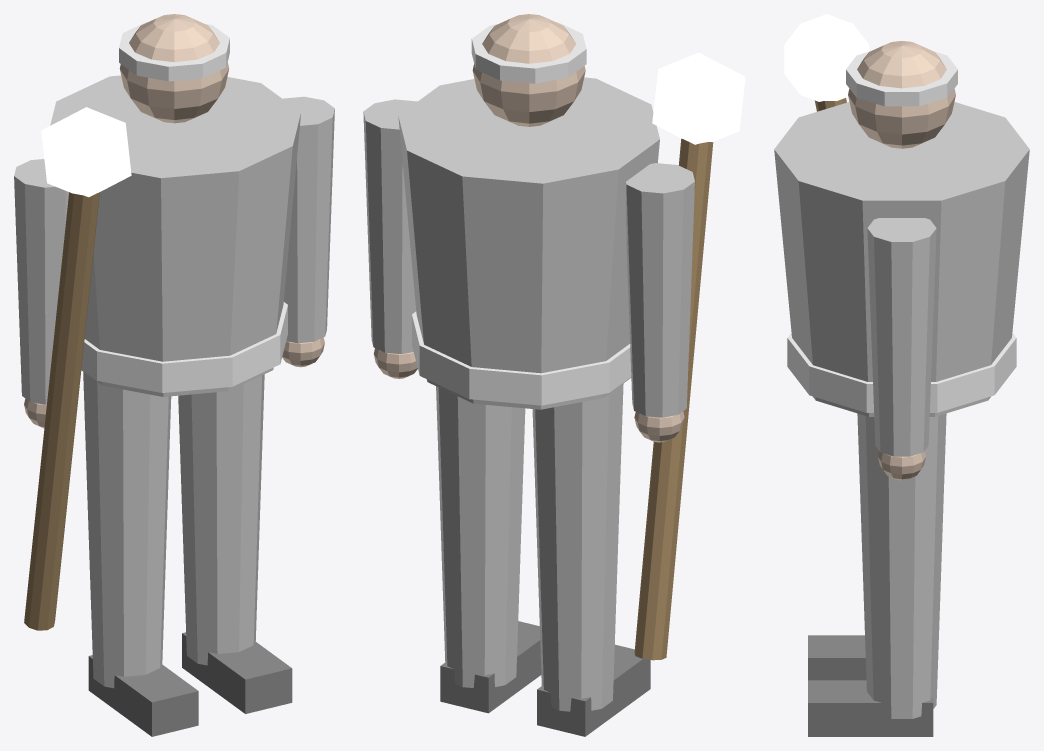
3 views of the same model, side by side, from view 1: azimuth 30°, elevation 25°; view 2: azimuth 150°, elevation 25°; view 3: azimuth 270°, elevation 25° (orthographic). The views are drawn at different scales.
Parts seen in each view (by area): view 1: torso, thighR, thighL, staff, armL, armR, head, belt, orb, footL, footR, band (+1 smaller); view 2: torso, thighR, thighL, armR, staff, armL, head, belt, orb, footR, footL, band (+2 smaller); view 3: torso, thighL, armL, head, belt, orb, footL, band, footR, handL.
Part boxes in pixels (x1,y1,x2,y2): torso: (50,75,300,396); thighR: (83,372,171,688); thighL: (178,374,264,665); staff: (24,192,99,630); armL: (283,96,334,343); armR: (14,159,68,404); head: (119,14,229,123); belt: (81,302,287,392); orb: (41,107,131,197); footL: (182,632,292,713); footR: (88,655,198,736); band: (119,22,229,81); torso: (398,77,659,409); thighR: (532,383,623,711); thighL: (436,386,525,687); armR: (625,163,694,417); staff: (634,138,713,660); armL: (363,99,417,354); head: (472,14,585,126); belt: (412,311,631,405); orb: (652,52,745,144); footR: (537,644,650,736); footL: (440,621,541,713); band: (471,22,586,83); torso: (774,102,1029,416); thighL: (857,413,946,718); armL: (867,218,936,456); head: (848,41,955,148); belt: (787,333,1016,412); orb: (784,14,869,101); footL: (808,680,933,736); band: (846,51,957,106); footR: (808,635,866,680); handL: (878,451,925,480).
Bounding box in the file's own units: 0.5831 × 1.16 × 0.408.
